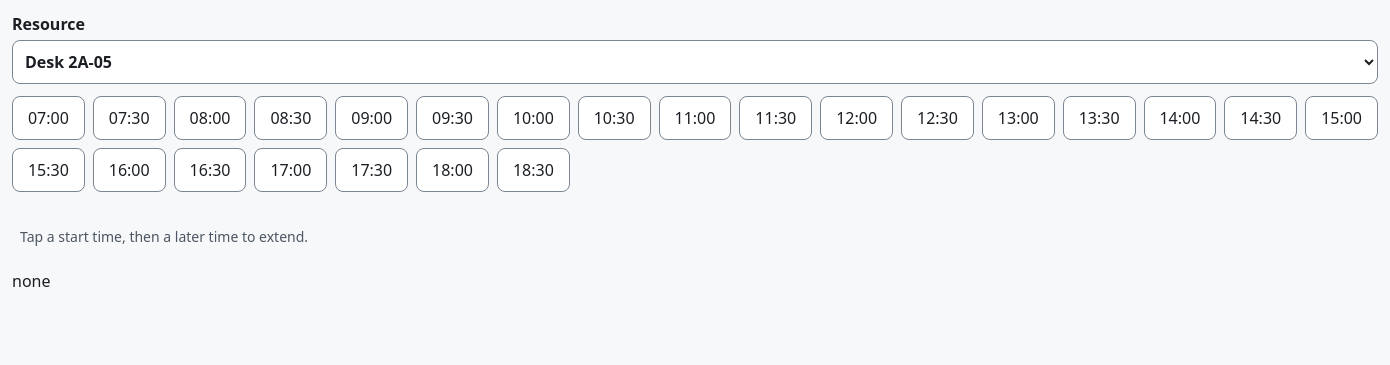
Scenario: SlotGrid first selection is the shortest valid booking (UX-03) › compact: a tap pads, a tap inside the selection shortens it, and Clear selection empties it
Expected: the text "Tap a start time, then a later time to extend." is shown, [20, 227, 308, 246]
Expected: the button "Clear selection" is not shown
Click the button named "09:00 to 09:30" at point(372, 118), box [335, 96, 408, 140]
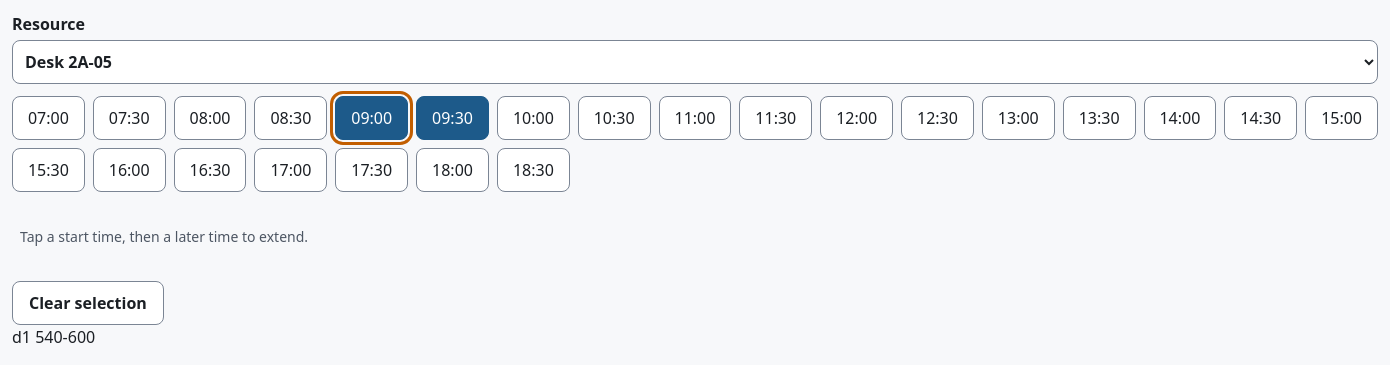
Expected: the text with test id "sel" reads "d1 540-600", [12, 326, 95, 348]
Click the button named "11:00 to 11:30" at point(695, 118), box [659, 96, 731, 140]
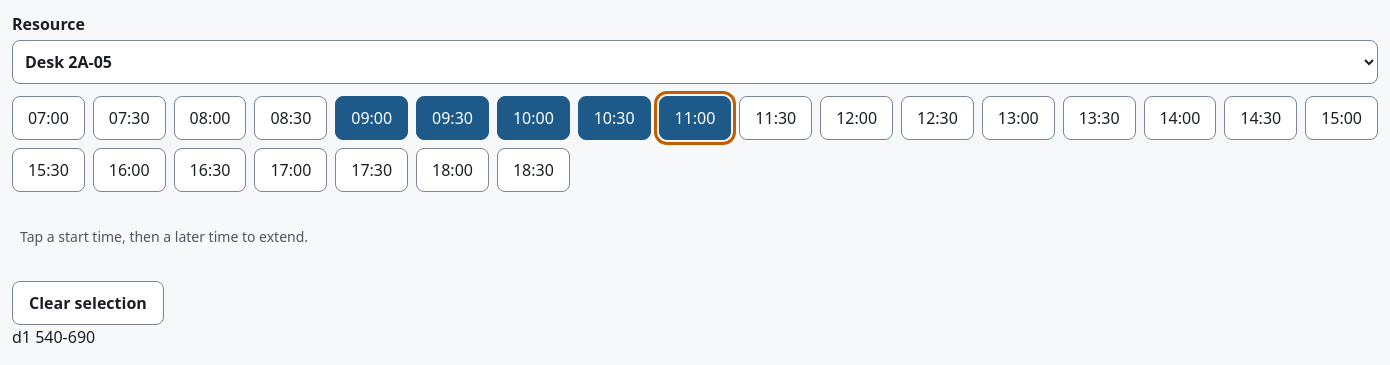
Expected: the text with test id "sel" reads "d1 540-690", [12, 326, 95, 348]
Click the button named "10:00 to 10:30" at point(533, 118), box [497, 96, 570, 140]
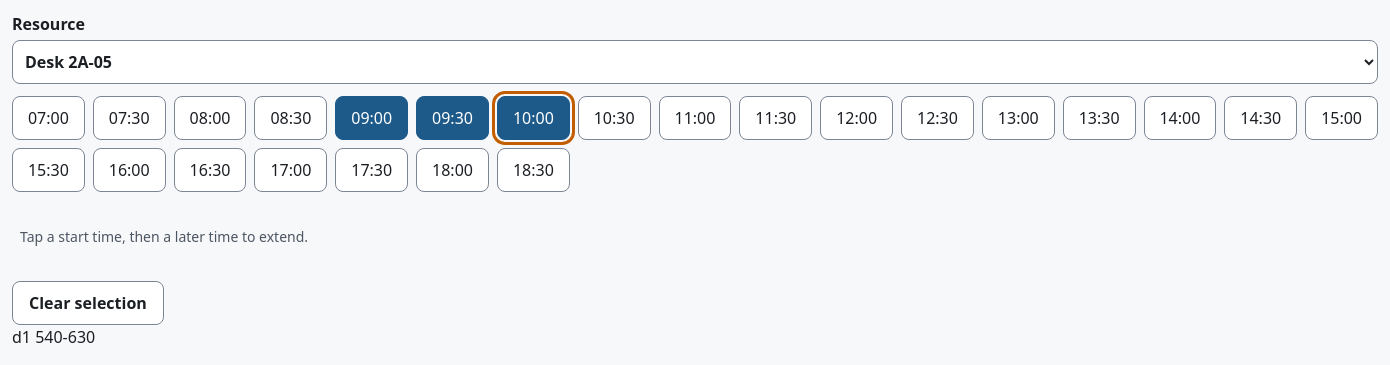
Expected: the text with test id "sel" reads "d1 540-630", [12, 326, 95, 348]
Click the button "Clear selection" at point(88, 303), box [12, 281, 164, 325]
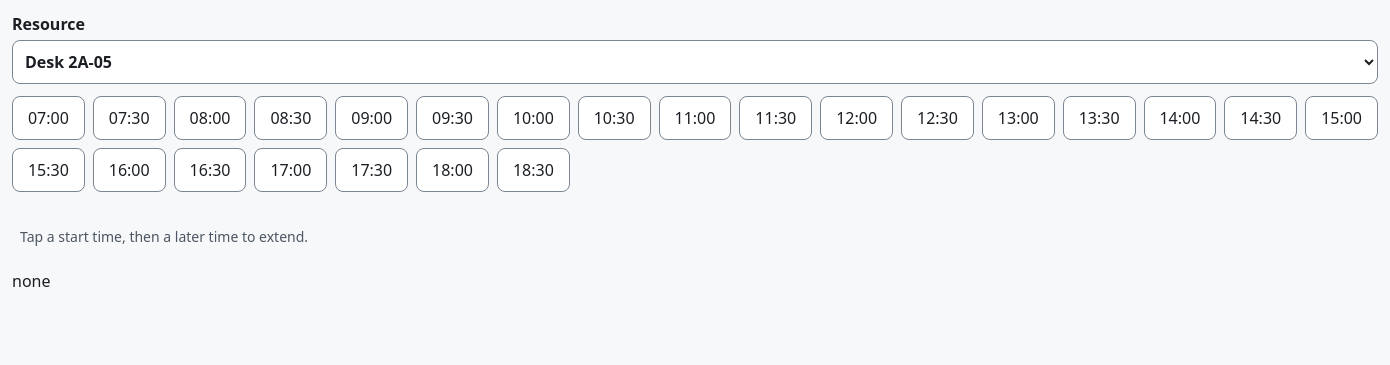
Expected: the text with test id "sel" reads "none", [12, 270, 50, 292]
Expected: the button "Clear selection" is gone
